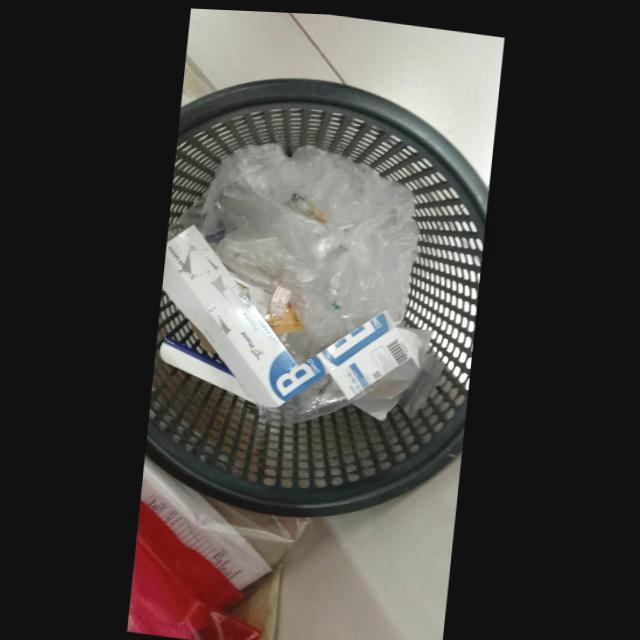cardboard: (158, 221, 421, 405)
plastic_bag: (196, 139, 419, 357)
